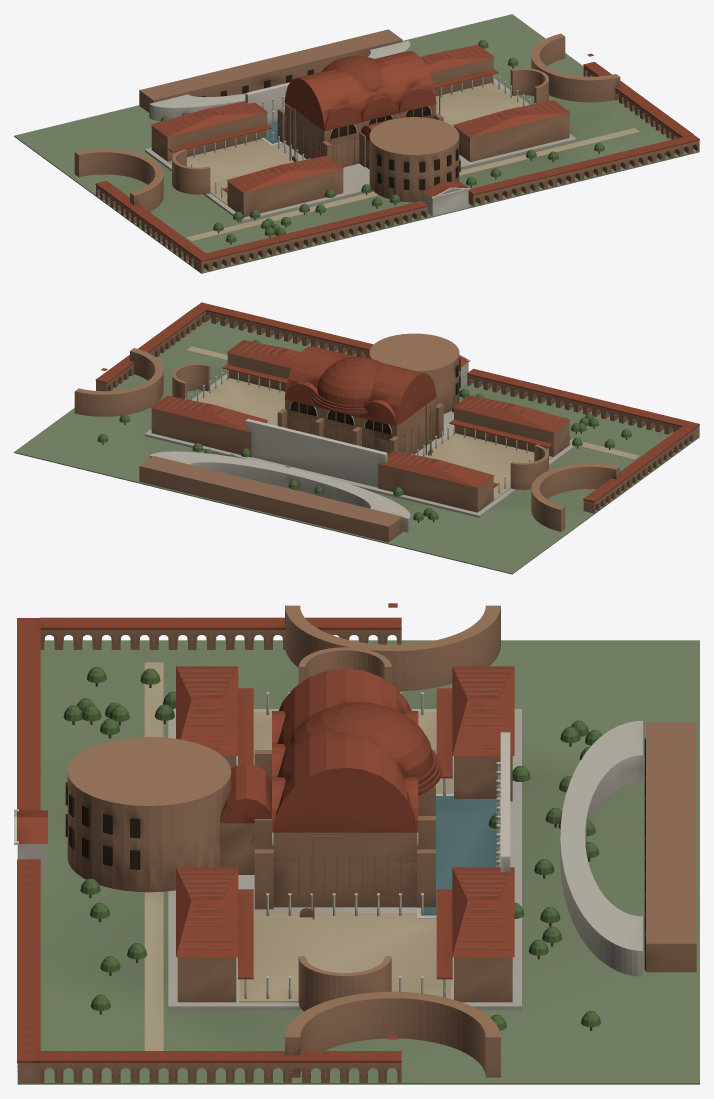
The model's file is baths-of-trajan-construction.glb.
3 views of the same model, one above another, from view 1: azimuth 30°, elevation 25°; view 2: azimuth 150°, elevation 25°; view 3: azimuth 270°, elevation 25° (orthographic). The views are drawn at different scales.
Visible parts, largest first — view 1: p0_precinct, p1_site, p2_scaffold; view 2: p0_precinct, p1_site, p2_scaffold; view 3: p0_precinct, p1_site, p2_scaffold.
Part boxes in pixels (x1,y1,x2,y2): p0_precinct: (14,14,699,273); p1_site: (149,39,604,244); p2_scaffold: (101,45,593,198); p0_precinct: (14,302,699,574); p1_site: (97,333,631,532); p2_scaffold: (101,340,593,489); p0_precinct: (17,605,699,1084); p1_site: (63,647,642,1030); p2_scaffold: (14,603,514,1039).
Bounding box in the file's own units: 330 × 52.91 × 216.
